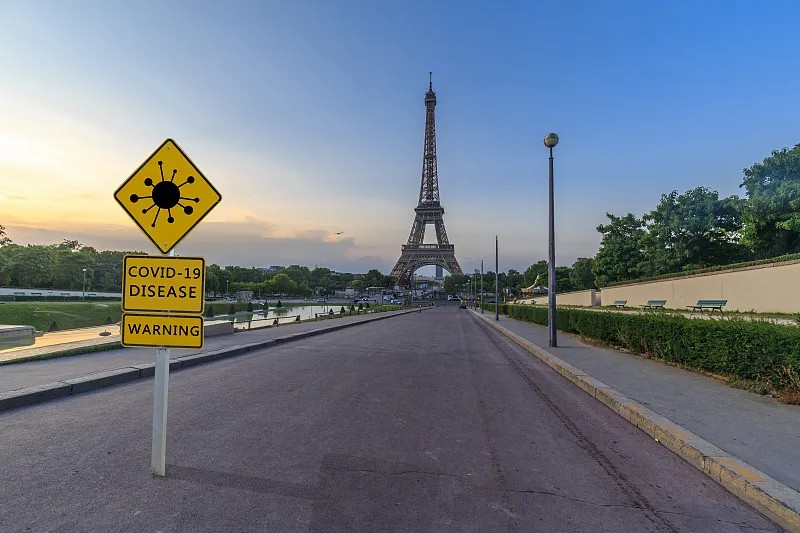Eiffel: (388, 72, 463, 288)
